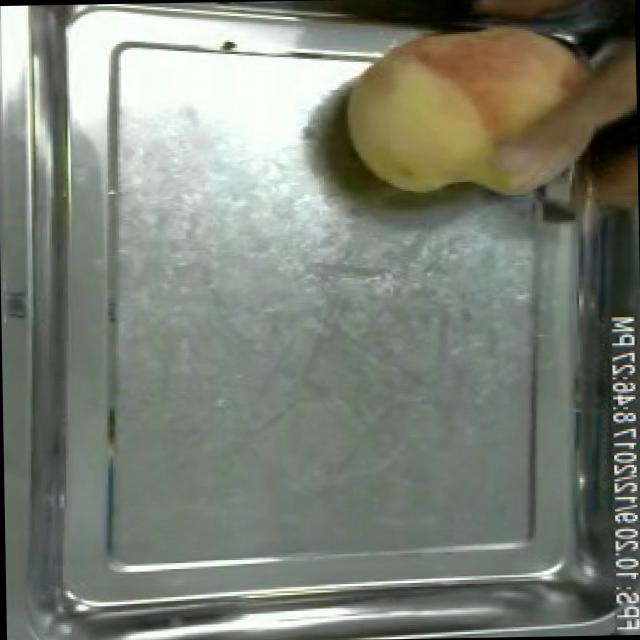Fruit: (335, 11, 633, 216)
